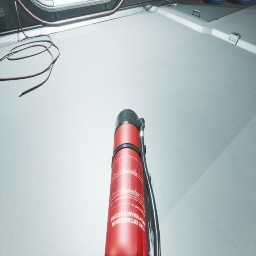FireExtinguisher ]: (104, 109, 161, 256)
